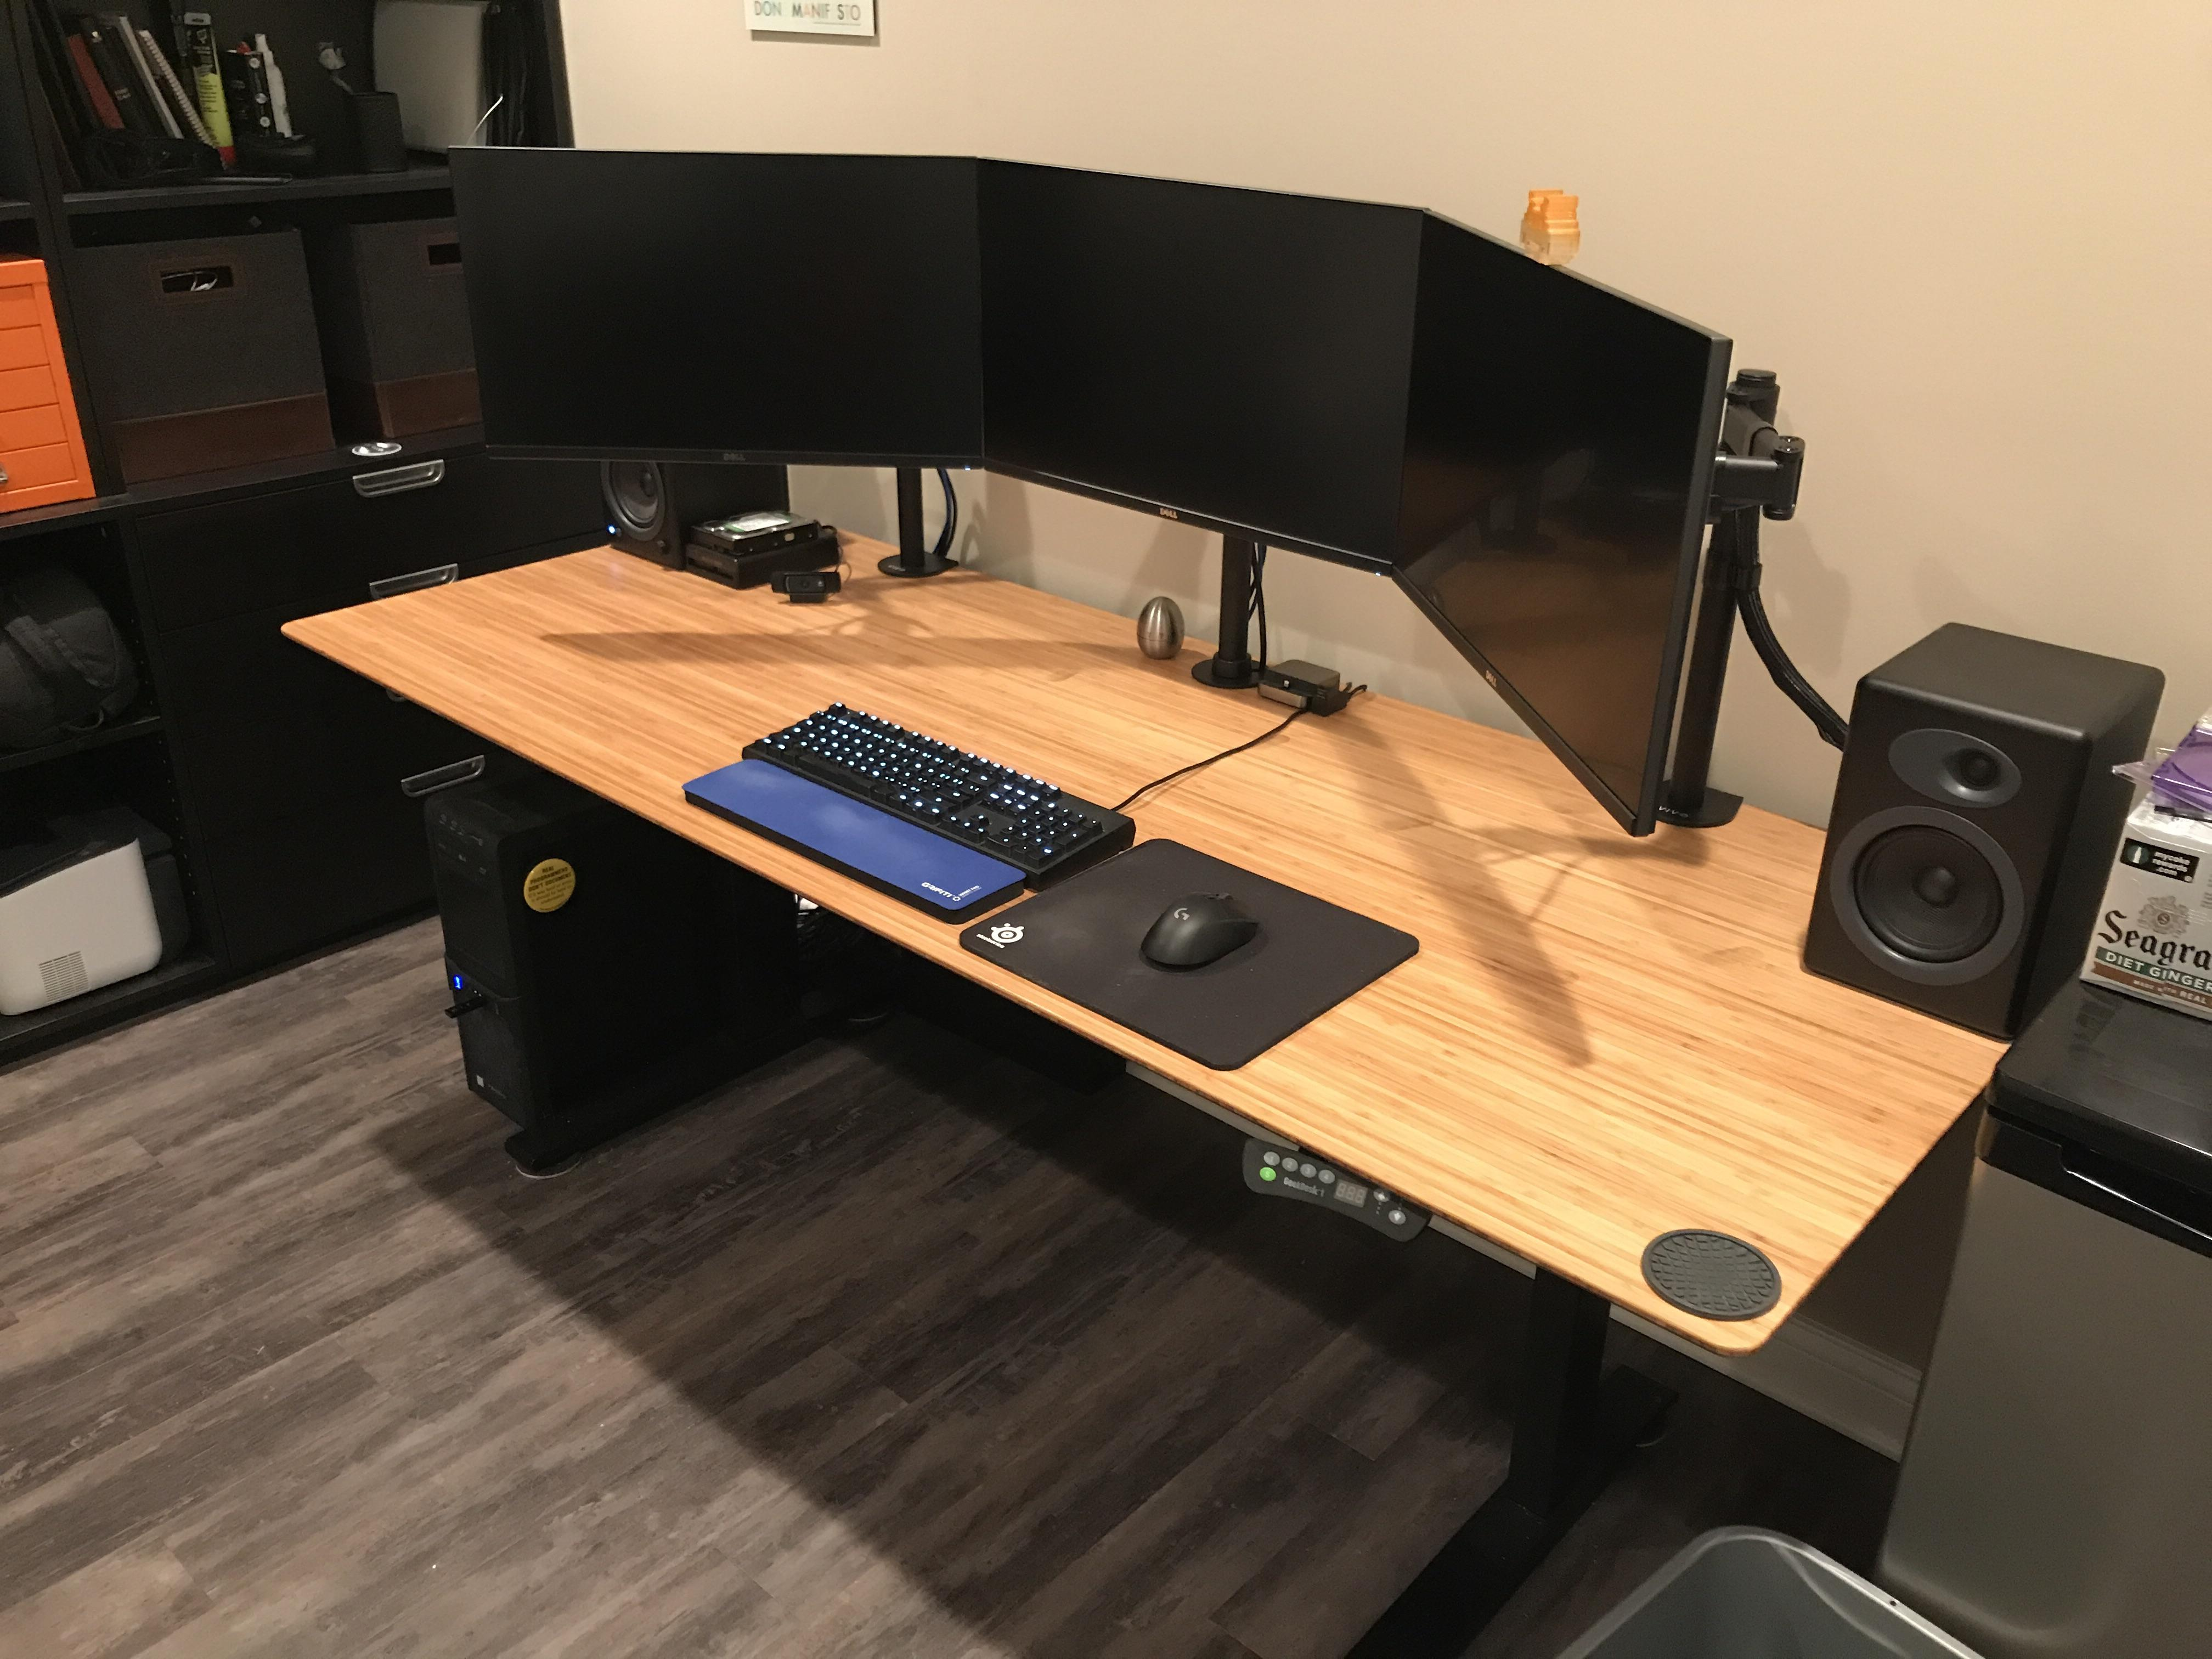Desk (Standing): (258, 413, 2066, 1392)
Desktop (Generic): (408, 796, 799, 1134)
Drink Coaster: (1620, 1208, 1787, 1344)
External Speakers (Subwoofers): (1811, 622, 2104, 1054), (568, 345, 801, 545)
Keyboard (Gaming): (742, 690, 1130, 884)
Monitor (Landscape): (979, 164, 1420, 545), (460, 159, 995, 465), (1395, 256, 1683, 823)
Monitor Arm: (1660, 380, 1782, 849), (1198, 509, 1310, 694), (881, 477, 956, 577)
Mouse (Gaming): (1153, 890, 1270, 967)
Mousepad (Generic): (951, 800, 1453, 1086)
Phone Holder: (1258, 655, 1341, 708)
